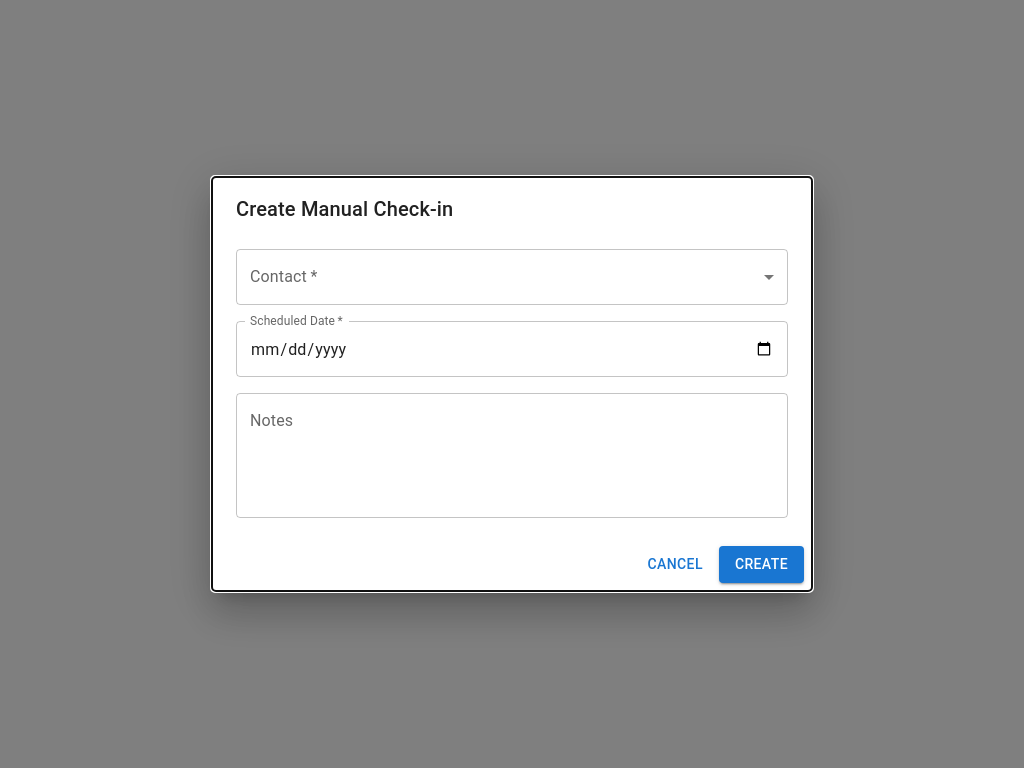
Test case: CreateCheckInModal › should require scheduled date
This screenshot has width=1024, height=768.
Click the dropdown named "contact": (512, 277) [236,249,788,305]
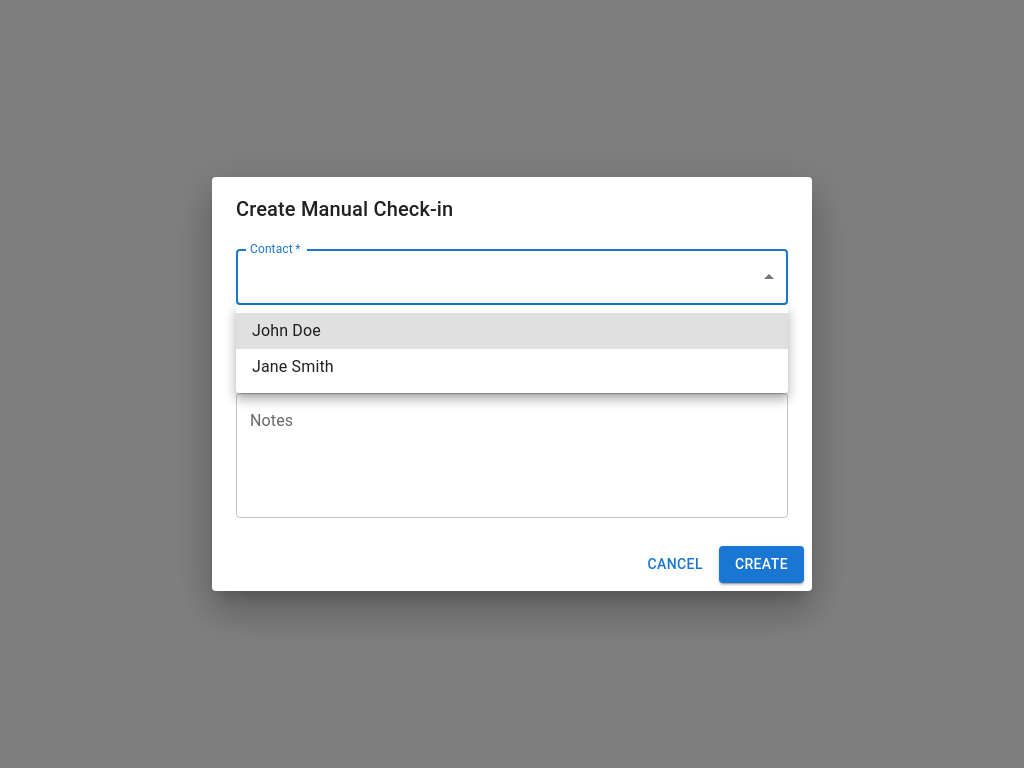
Click the option "John Doe": (286, 330) [236,313,788,349]
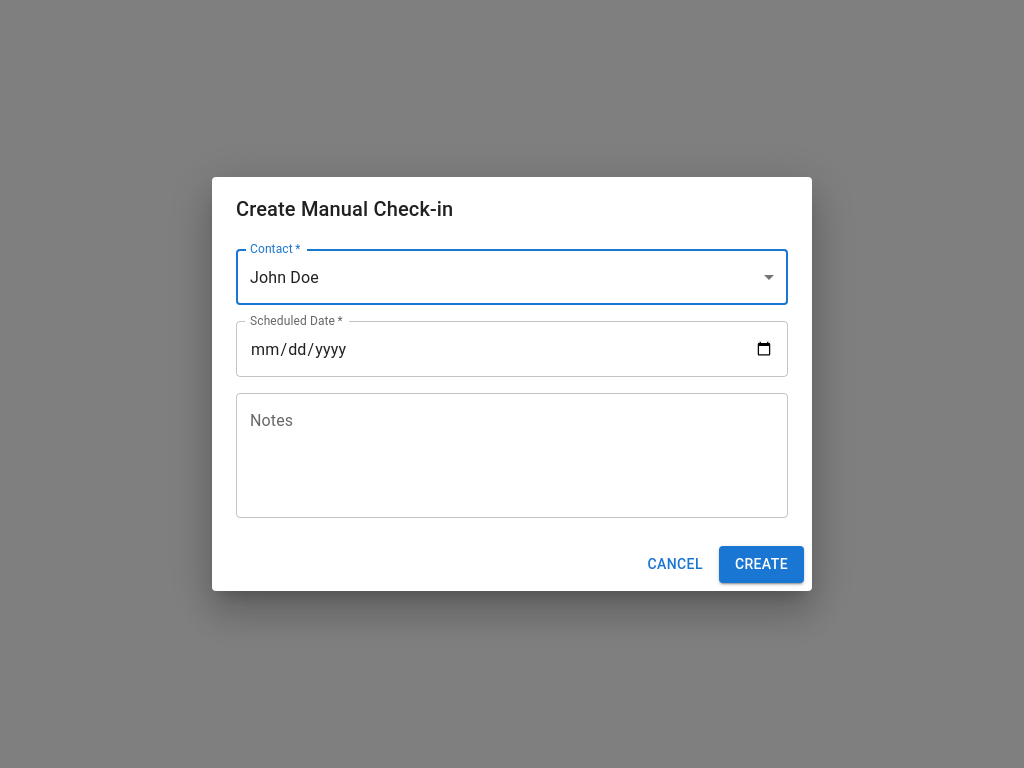
Click the button "Create": (761, 565) [719,546,804,583]
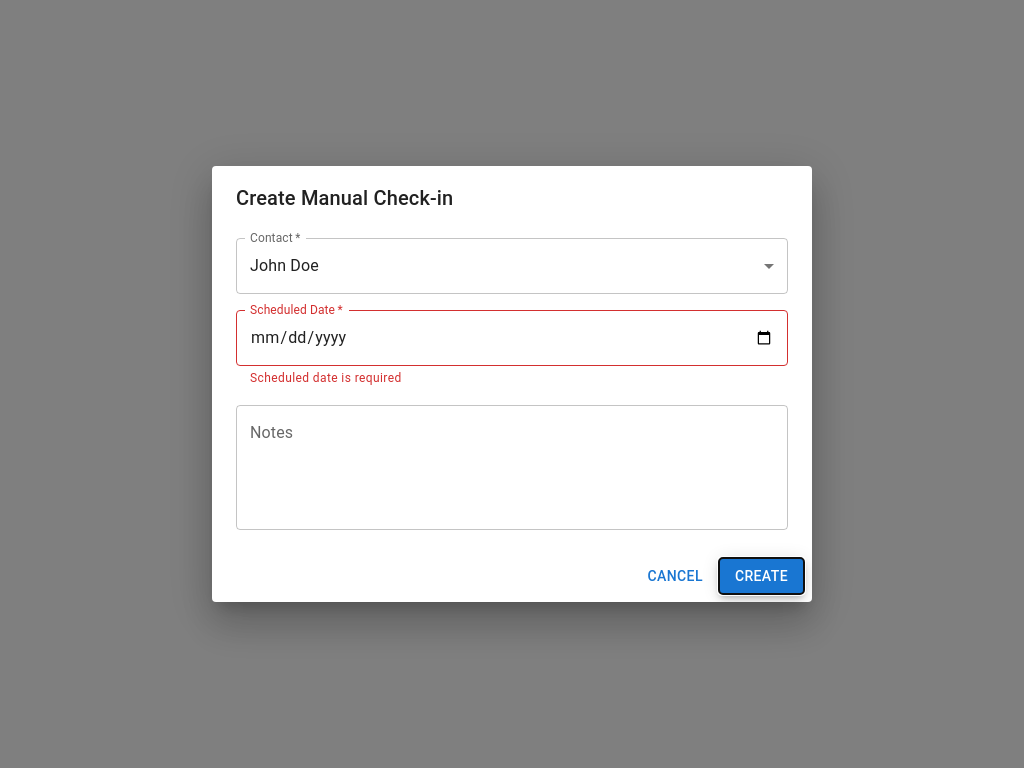
Result: the text "Scheduled date is required" is shown at [250,371,402,385]
